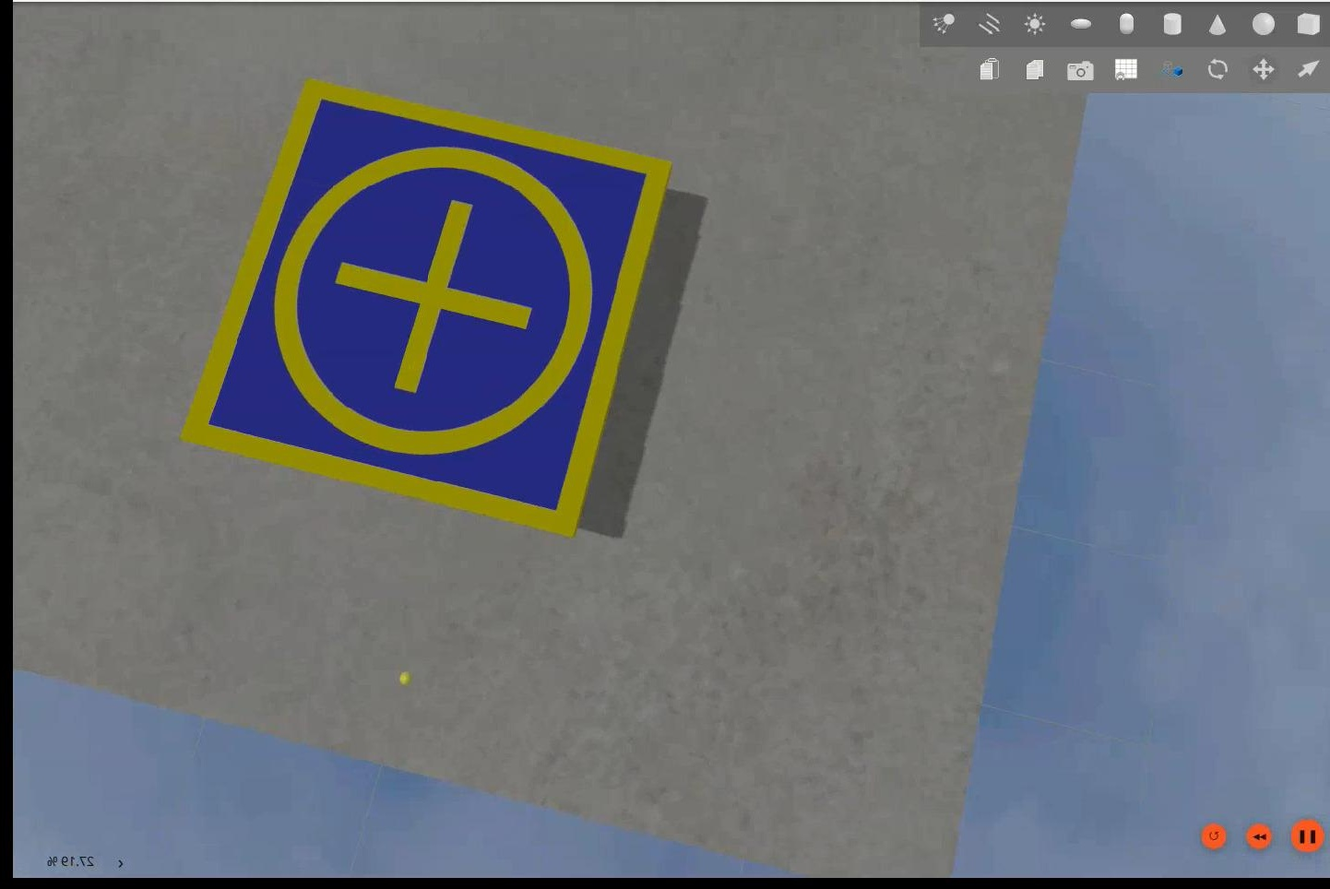small_base: (169, 81, 680, 542)
